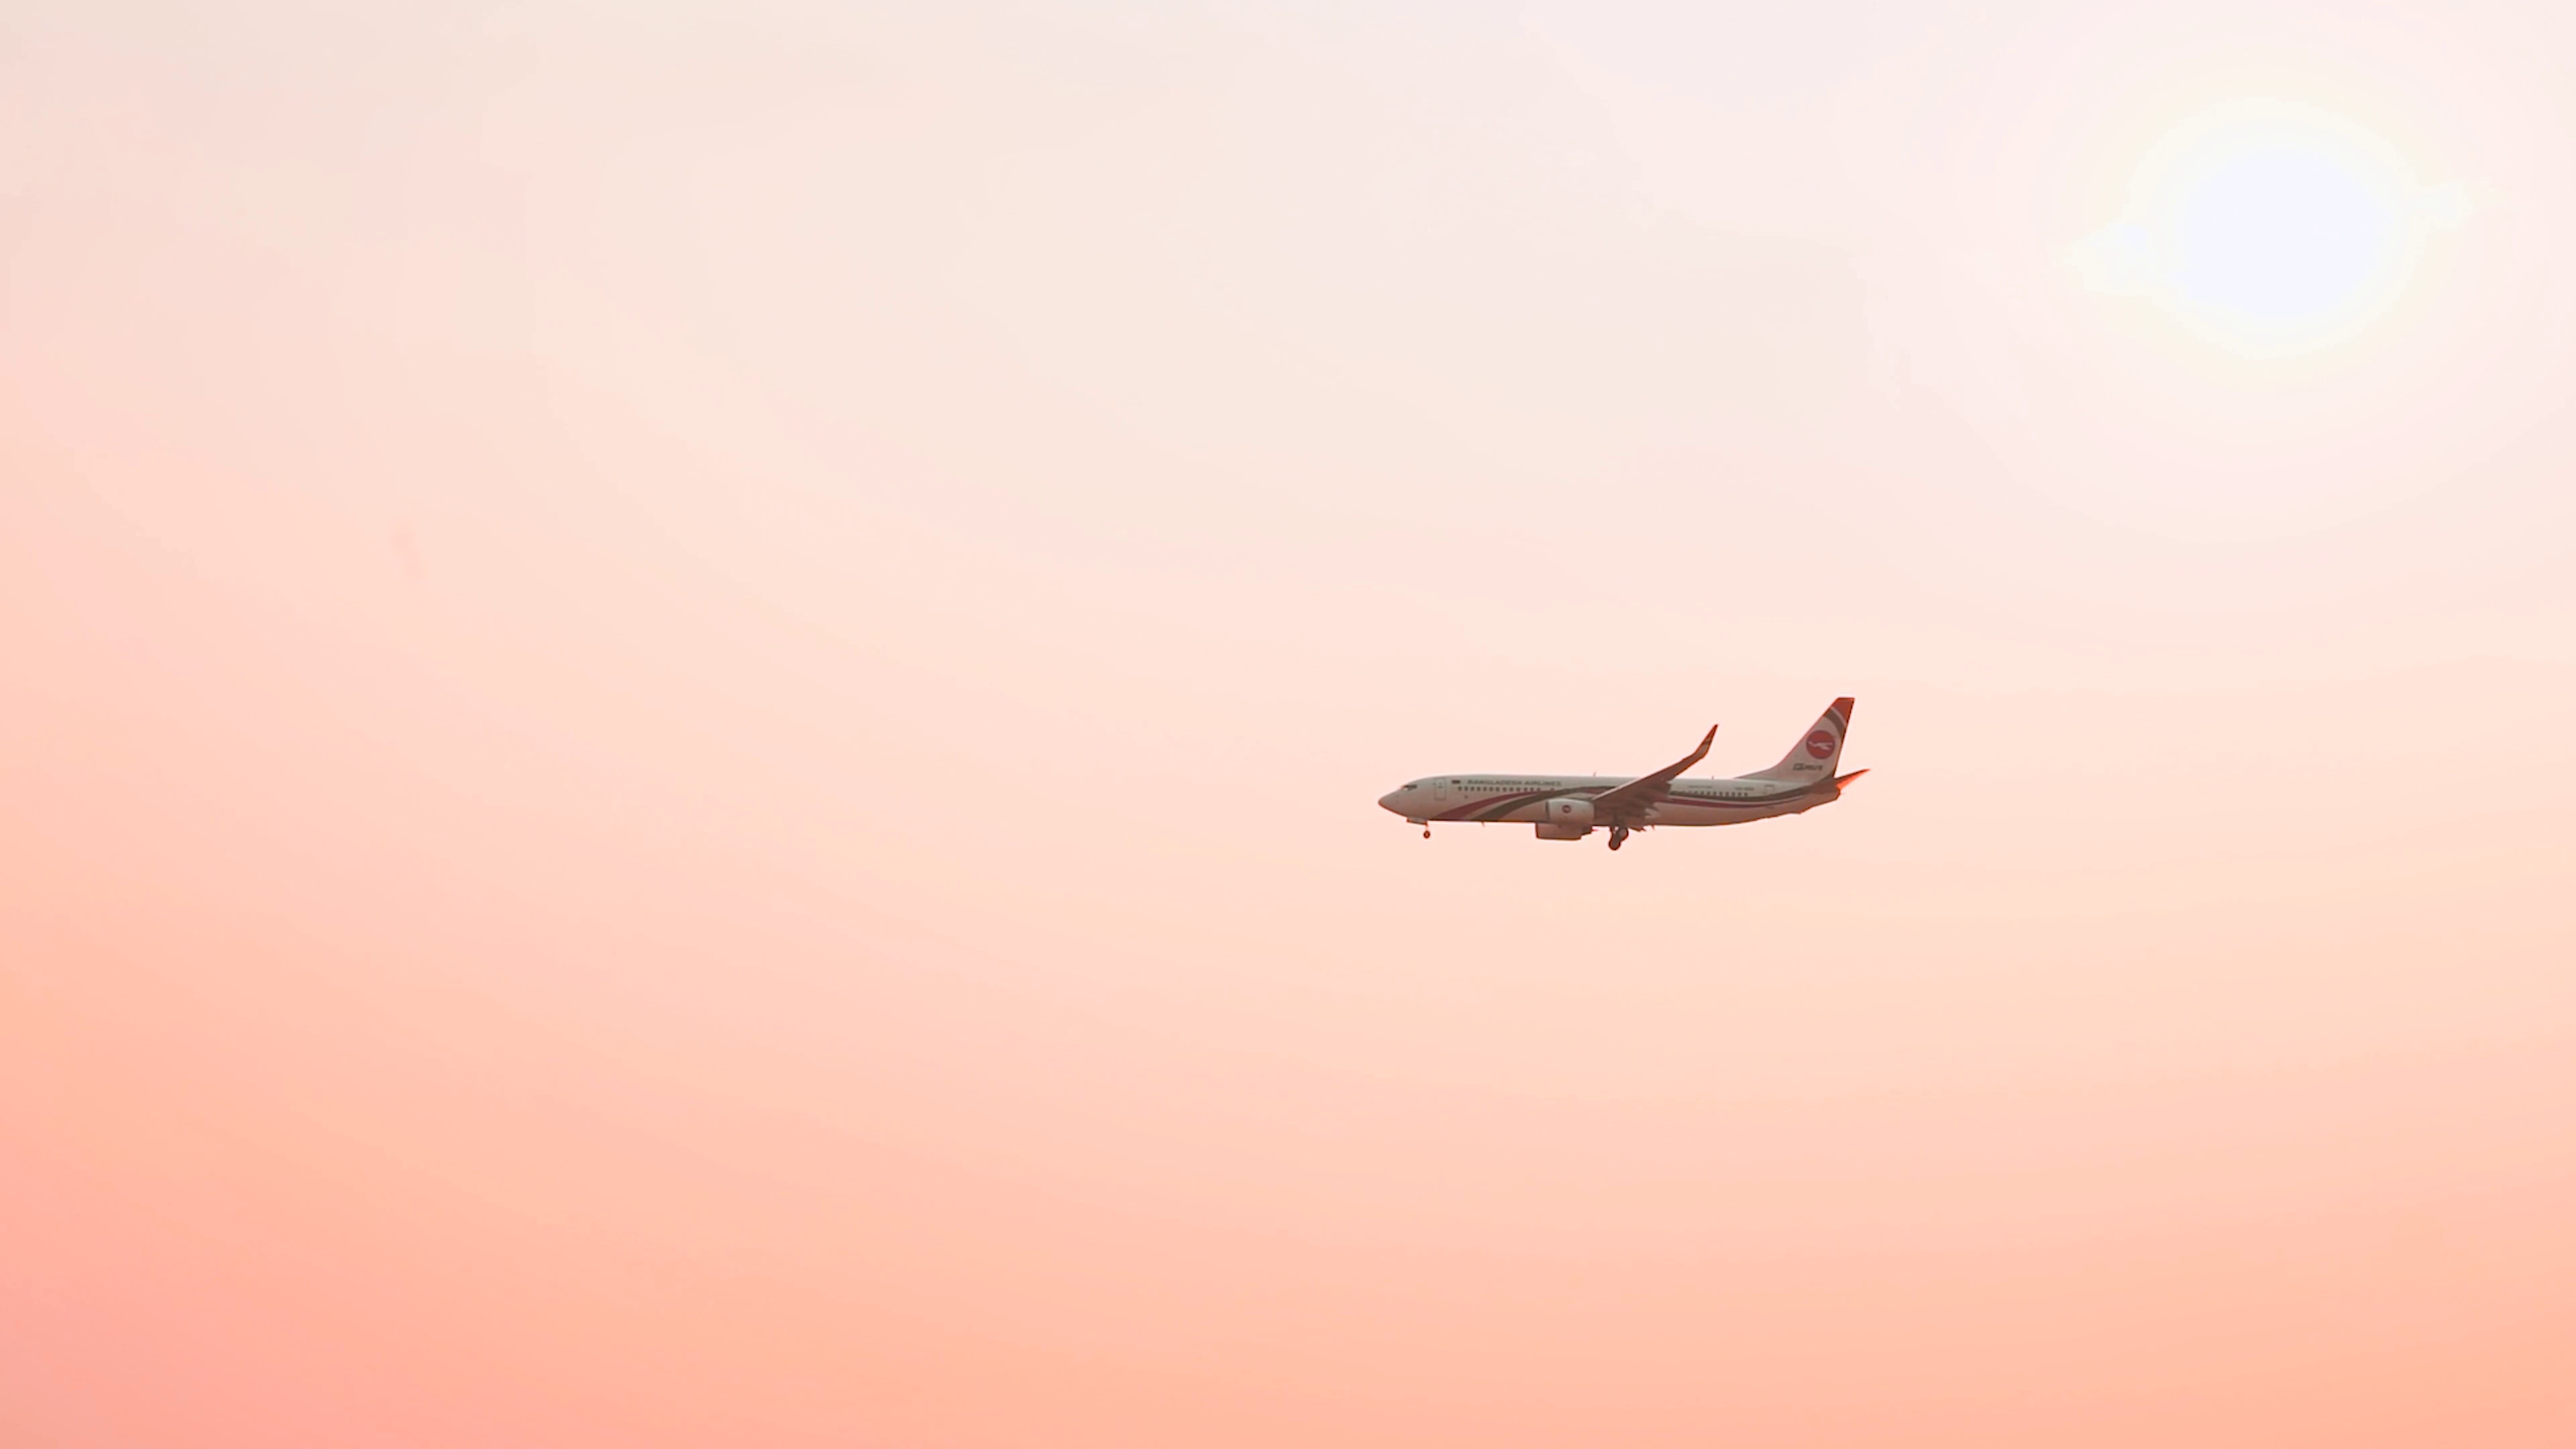plane: (1373, 697, 1872, 853)
